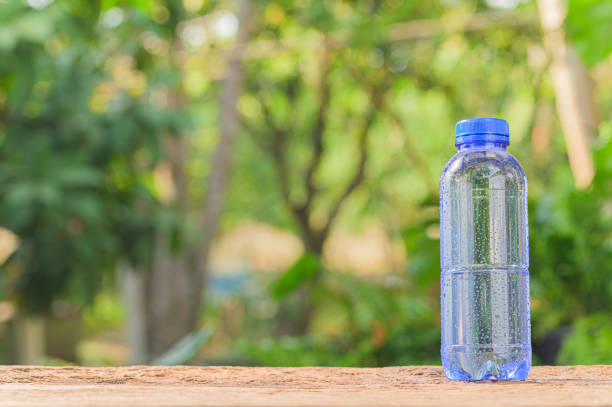bottle: (427, 105, 553, 394)
